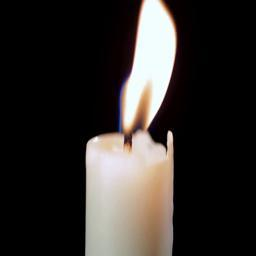fire: (120, 0, 177, 134)
